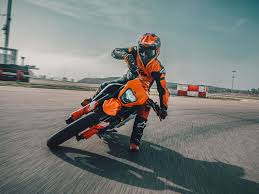motorcycle: (44, 55, 166, 150)
